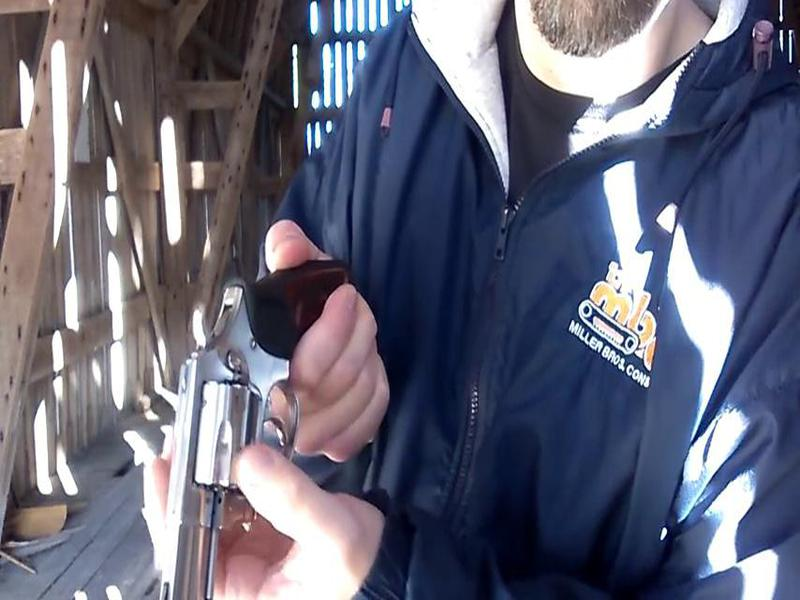Revolver: (134, 237, 377, 599)
